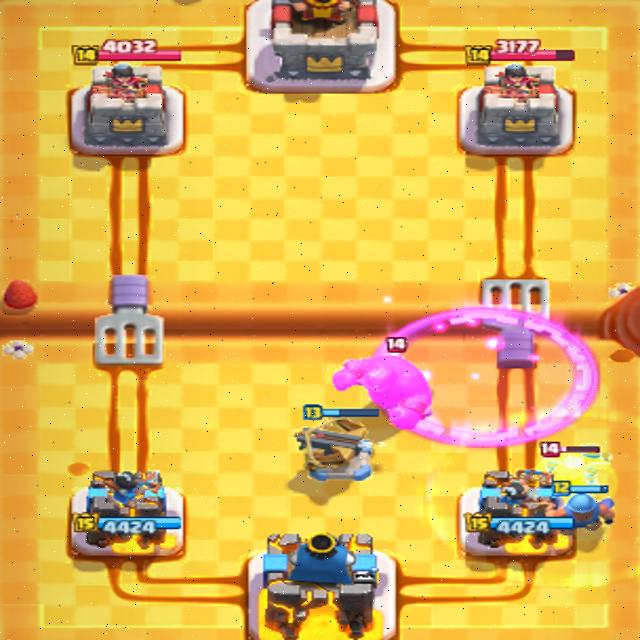EKingTower: (246, 0, 396, 93)
EnemyPrincessTower: (458, 62, 573, 155), (71, 62, 184, 155)
OFisherman: (564, 493, 614, 529)
OXbow: (295, 420, 371, 480)
OwnKingTower: (248, 533, 395, 639)
OwnPrincessTower: (459, 469, 574, 555), (71, 470, 183, 556)
